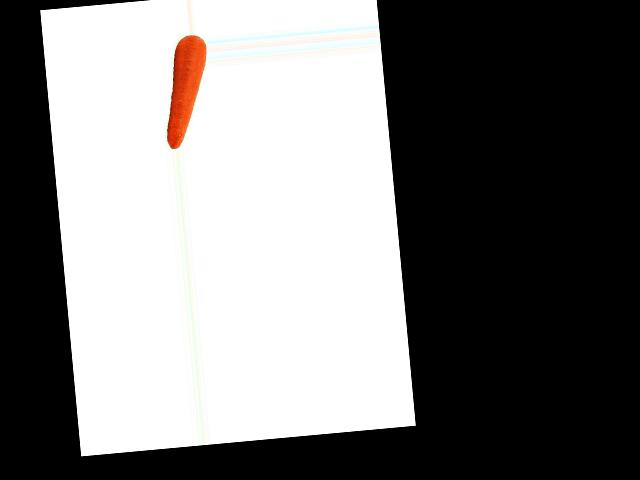carrot: (155, 52, 215, 152)
